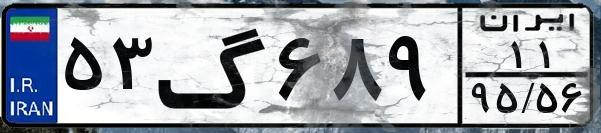1: (537, 27, 568, 80), (508, 27, 537, 80)
3: (110, 28, 156, 98)
5: (57, 26, 110, 100), (495, 70, 520, 125), (535, 70, 560, 125)
6: (270, 28, 330, 110), (560, 70, 590, 125)
8: (330, 28, 385, 110)
9: (385, 28, 445, 110), (470, 70, 495, 125)
گ: (156, 12, 270, 120)
